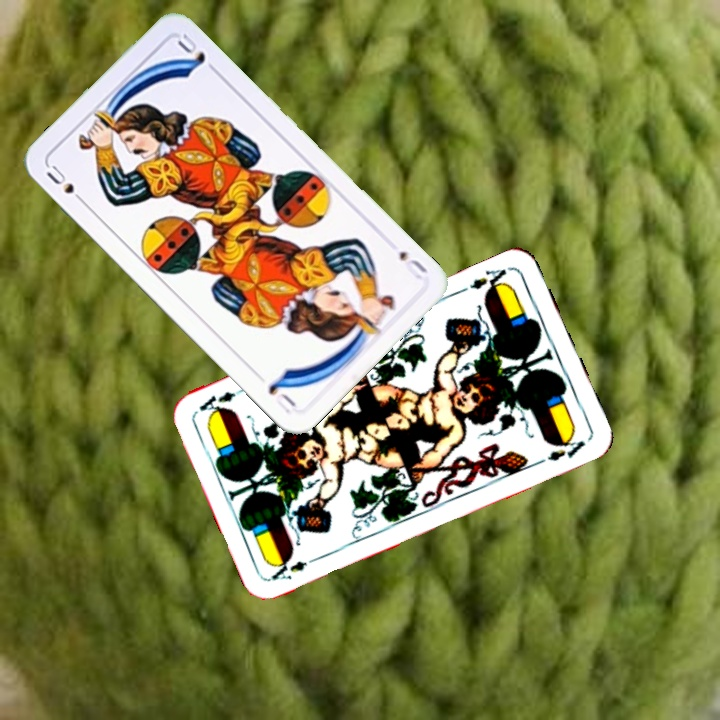EA: (267, 552, 323, 583), (465, 262, 514, 297)
SU: (42, 161, 90, 208), (395, 246, 430, 282)
